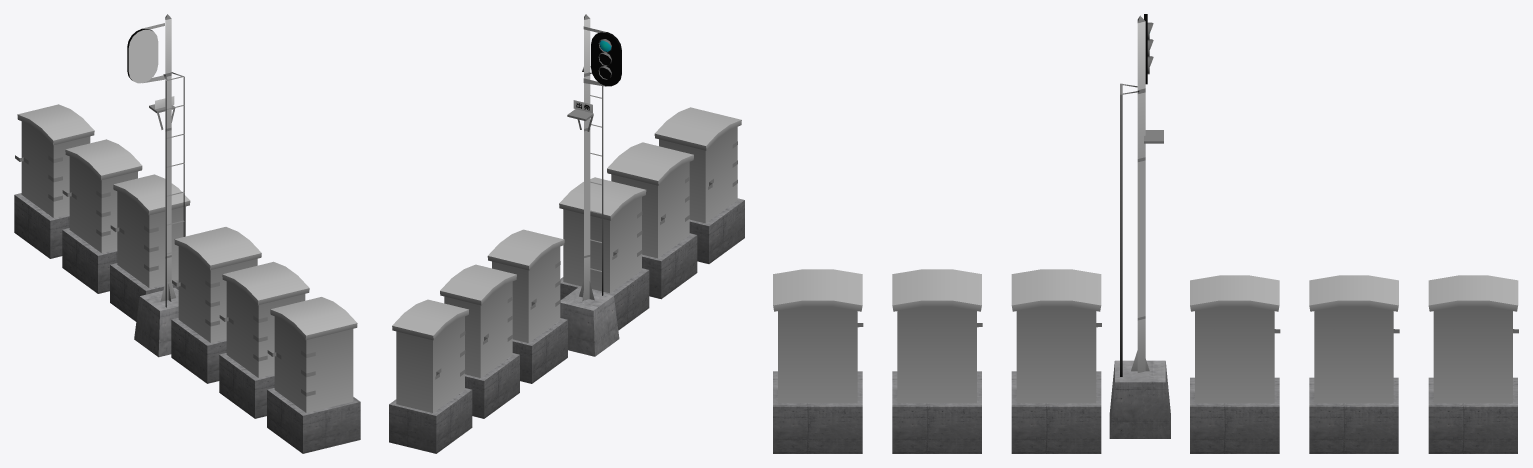
Rendered from SIGNAL_3_NORM.glb.
The picture shows the model from 3 angles, left to right: view 1: azimuth 30°, elevation 25°; view 2: azimuth 150°, elevation 25°; view 3: azimuth 270°, elevation 25°; orthographic projection. The views are drawn at different scales.
Parts seen in each view (by area): view 1: box, box1, body; view 2: box1, box, body; view 3: box, box1, body.
Part boxes in pixels (box(x1,y1,x2,y2)): box: box(171, 227, 360, 453); box1: box(14, 104, 190, 321); body: box(127, 14, 184, 357); box1: box(389, 229, 567, 453); box: box(559, 107, 744, 330); body: box(560, 14, 621, 356); box: box(773, 269, 1101, 453); box1: box(1190, 275, 1518, 453); body: box(1109, 14, 1170, 438).
Bounding box in the file's own units: 4.52 × 17.08 × 28.13.
Materials: 9 (9 with a texture image).
